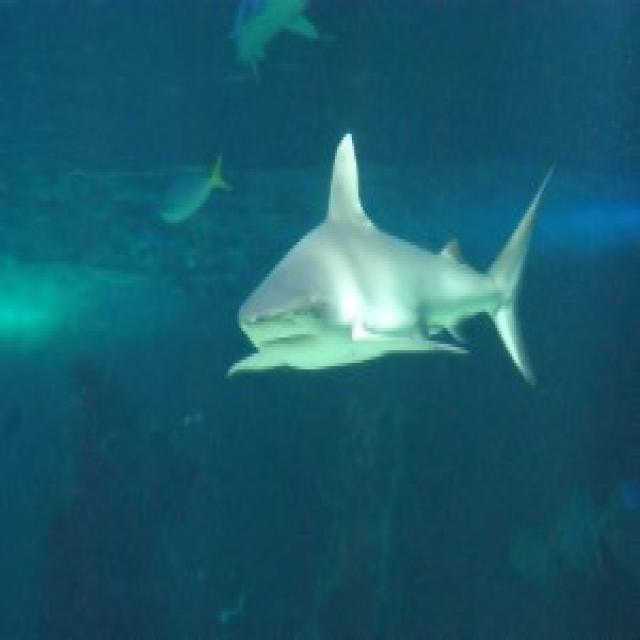Shark: (231, 128, 562, 394)
